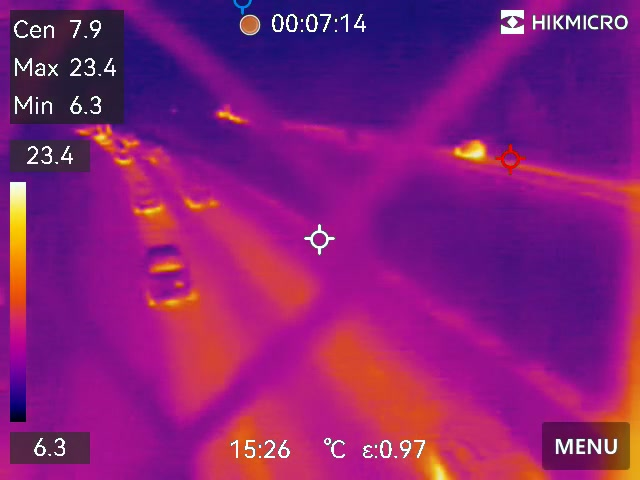vehicle: (138, 245, 196, 305), (128, 179, 164, 213), (452, 137, 488, 160)
